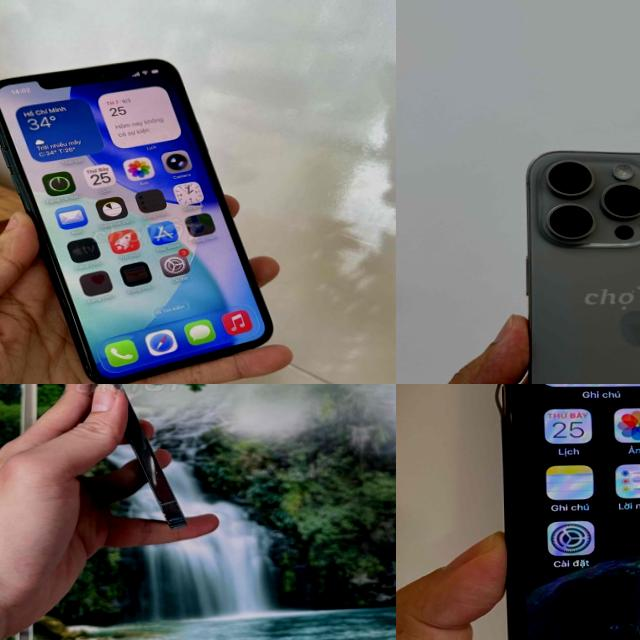gen_11: (0, 53, 279, 379)
gen_12_13: (41, 384, 190, 524)
gen_15: (510, 139, 640, 384)
gen_x_xs: (491, 384, 640, 640)
